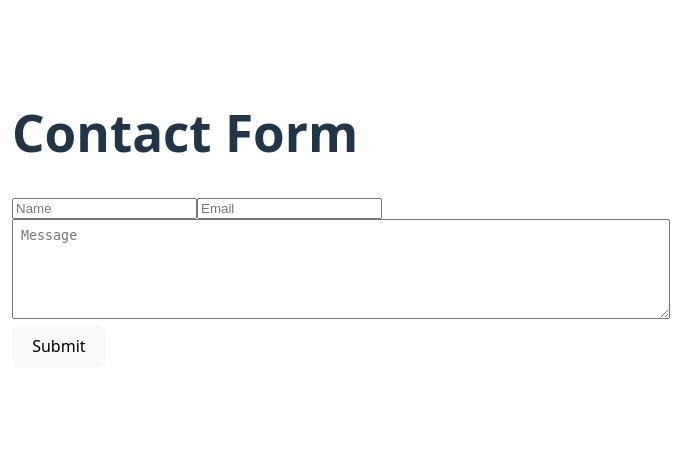
Test: ReactContactForm › displays submitted data when form is submitted with valid inputs
Type "John Doe" into the field with test id "name-input" at (104, 208), box [12, 198, 197, 219]
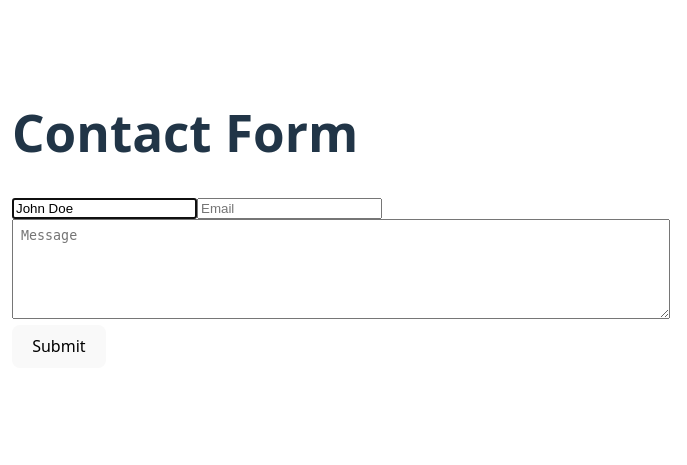
Type "john@example.com" into the field with test id "email-input" at (290, 208), box [197, 198, 382, 219]
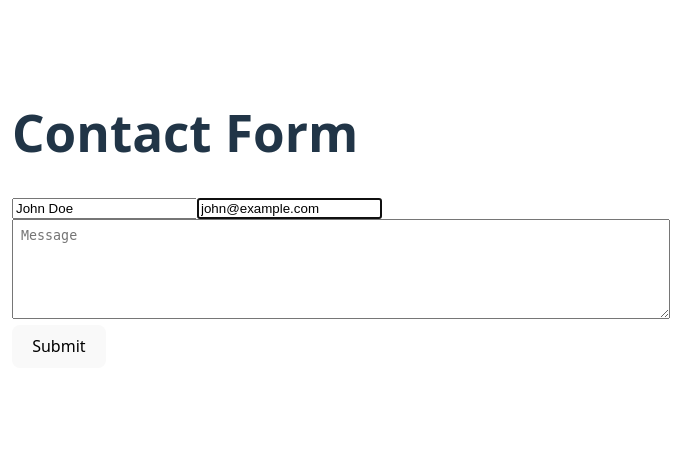
Type "Hello there!" into the text box with test id "message-input" at (341, 269), box [12, 219, 670, 319]
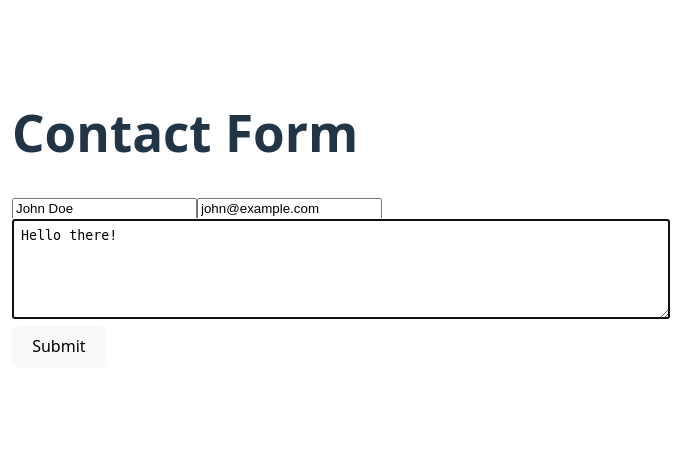
Click the button with test id "submit-button" at (59, 346), box [12, 325, 106, 368]
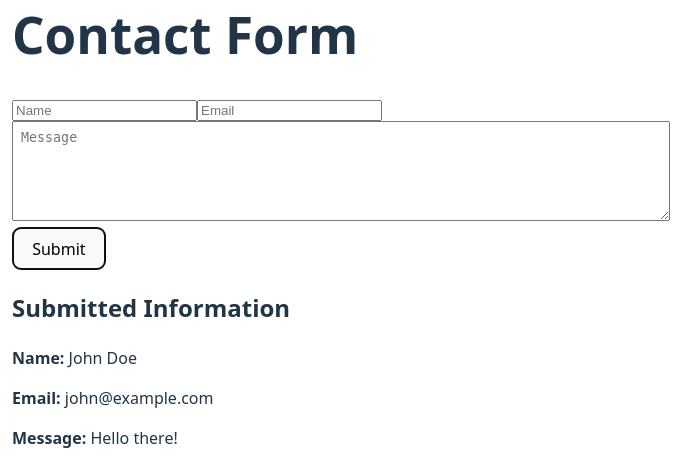
Check: the element with test id "submitted-data" shows "Name: John Doe", box [12, 291, 290, 449]
Check: the element with test id "submitted-data" shows "Email: john@example.com", box [12, 291, 290, 449]
Check: the element with test id "submitted-data" shows "Message: Hello there!", box [12, 291, 290, 449]
